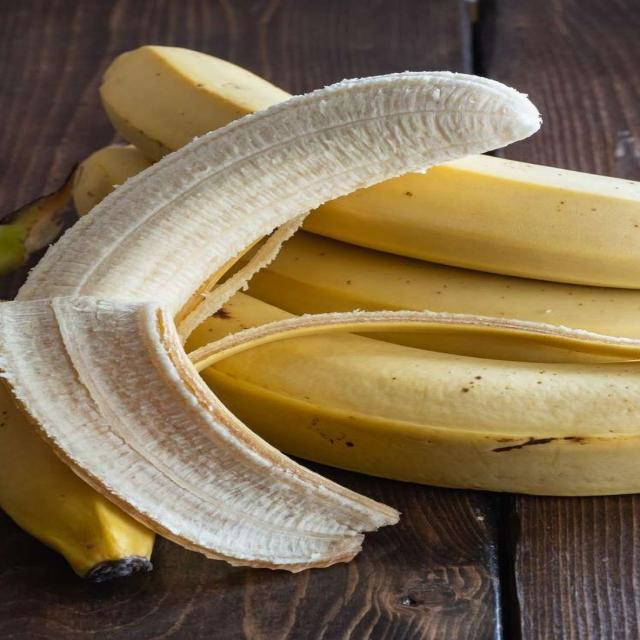banana_peel: (0, 5, 639, 615)
